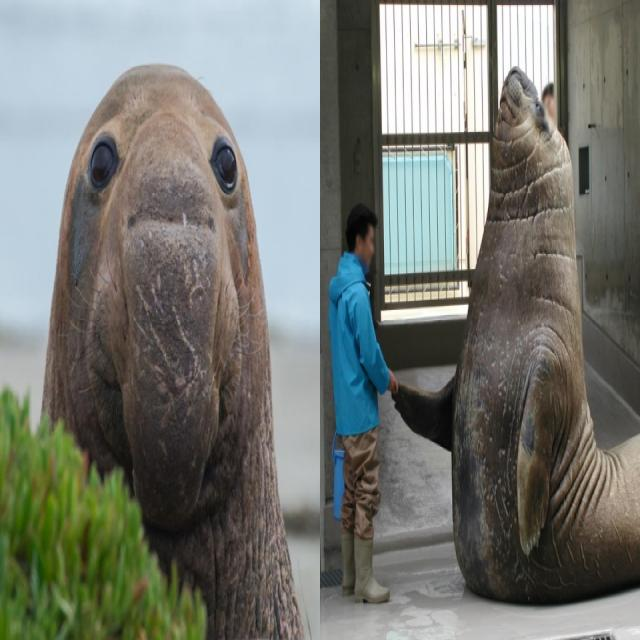walrus: (391, 51, 634, 599)
